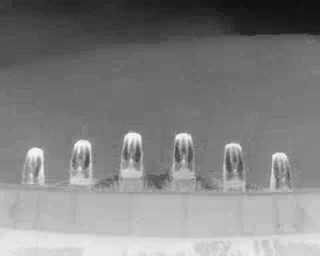claw: (172, 131, 197, 178), (121, 130, 144, 178), (225, 140, 247, 185), (23, 147, 46, 185), (71, 139, 92, 180), (272, 151, 293, 191)
